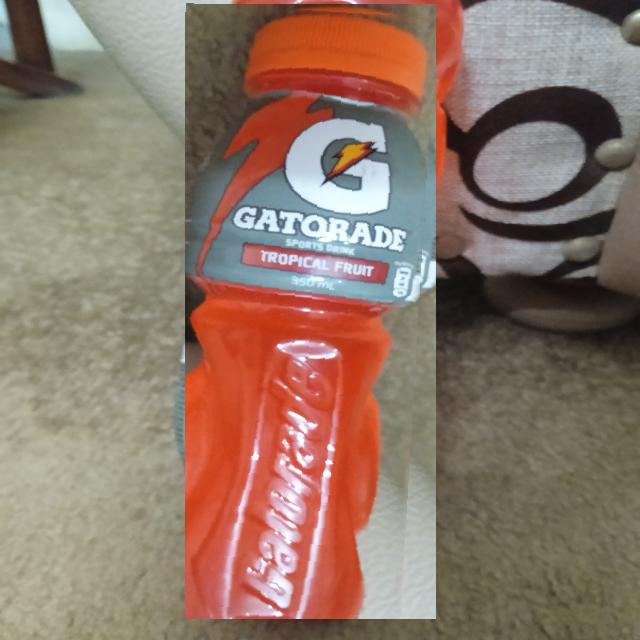Plastic: (185, 3, 436, 620)
